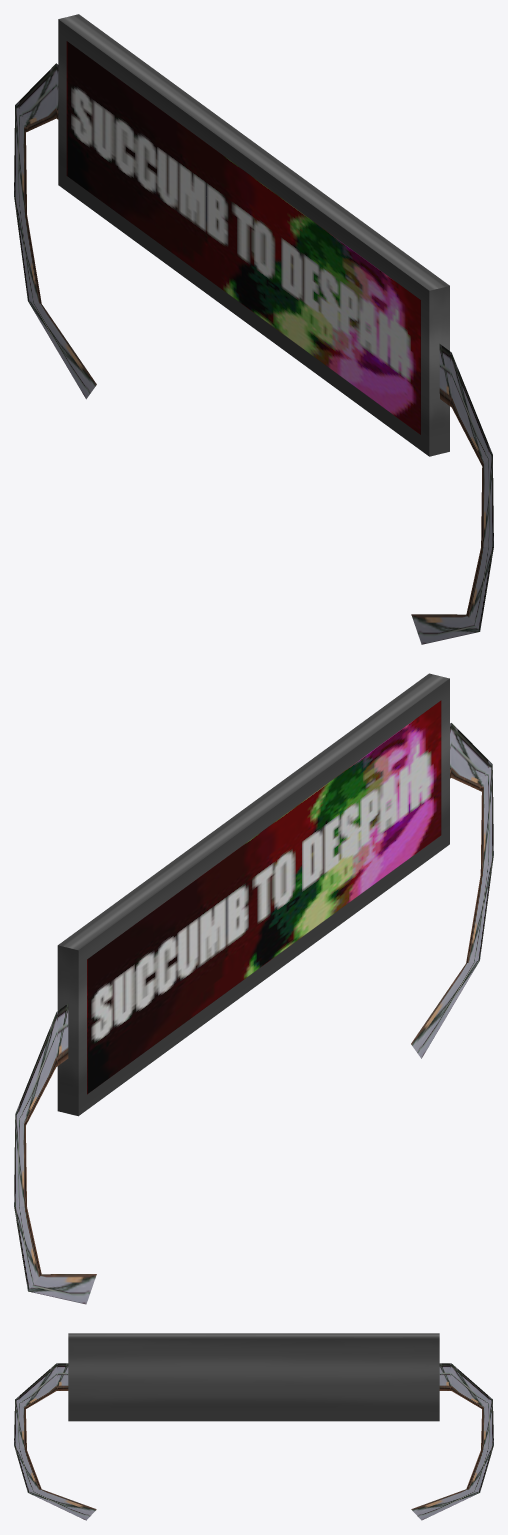
The model's file is Billboard.fbx.
3 renders of one model, top to bottom at view 1: azimuth 30°, elevation 25°; view 2: azimuth 150°, elevation 25°; view 3: azimuth 270°, elevation 25°, orthographic. The views are drawn at different scales.
Visible parts, largest first — view 1: newassets_billboard; view 2: newassets_billboard; view 3: newassets_billboard.
Boxes of the visible parts, left/top/right/bottom form: newassets_billboard: left=14, top=14, right=493, bottom=644; newassets_billboard: left=14, top=673, right=493, bottom=1304; newassets_billboard: left=14, top=1333, right=493, bottom=1520.
Bounding box in the file's own units: 200 × 3415 × 8033.
Materials: 2 (2 with a texture image).
